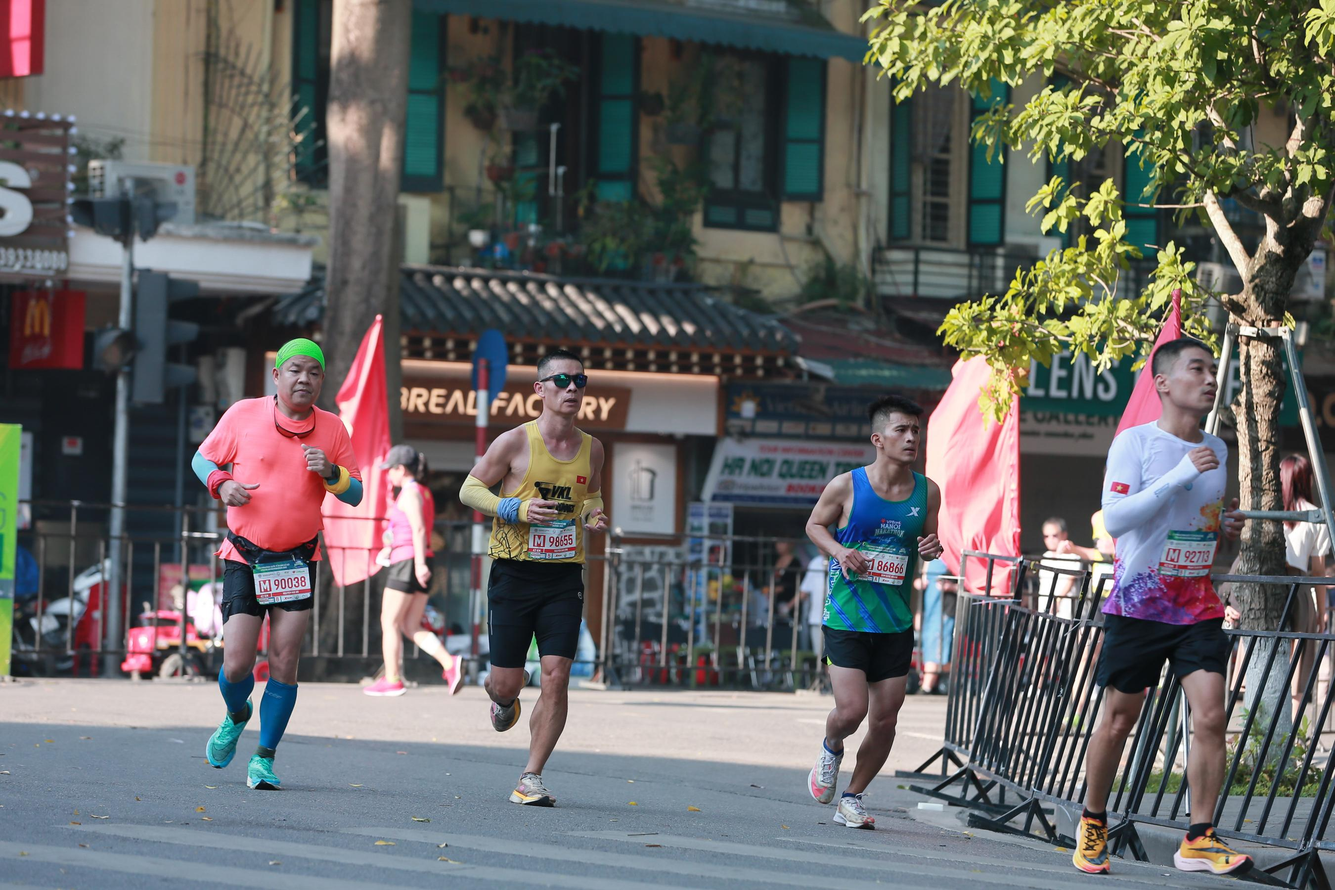bib: (1160, 530, 1217, 576), (253, 561, 311, 606), (858, 543, 908, 586), (530, 519, 575, 559)
